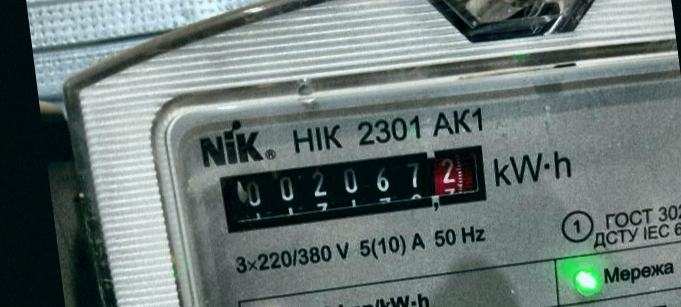0: (242, 176, 264, 207), (338, 162, 360, 192), (276, 170, 296, 201)
2: (437, 152, 458, 183), (309, 166, 329, 196)
6: (371, 160, 393, 191)
7: (404, 156, 424, 188)
screen: (204, 127, 504, 245)
